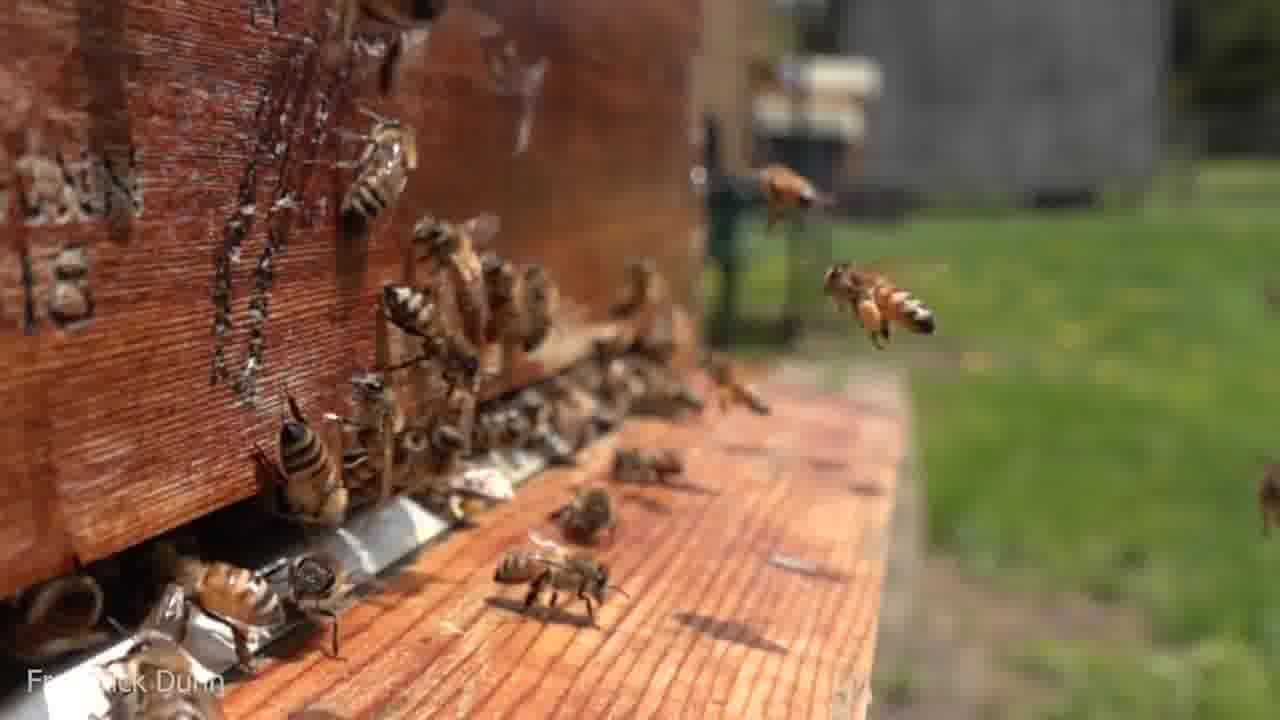pollen: (818, 256, 942, 348)
